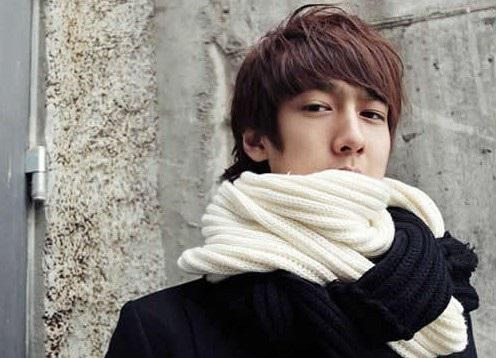WRONG: (274, 76, 399, 212)
